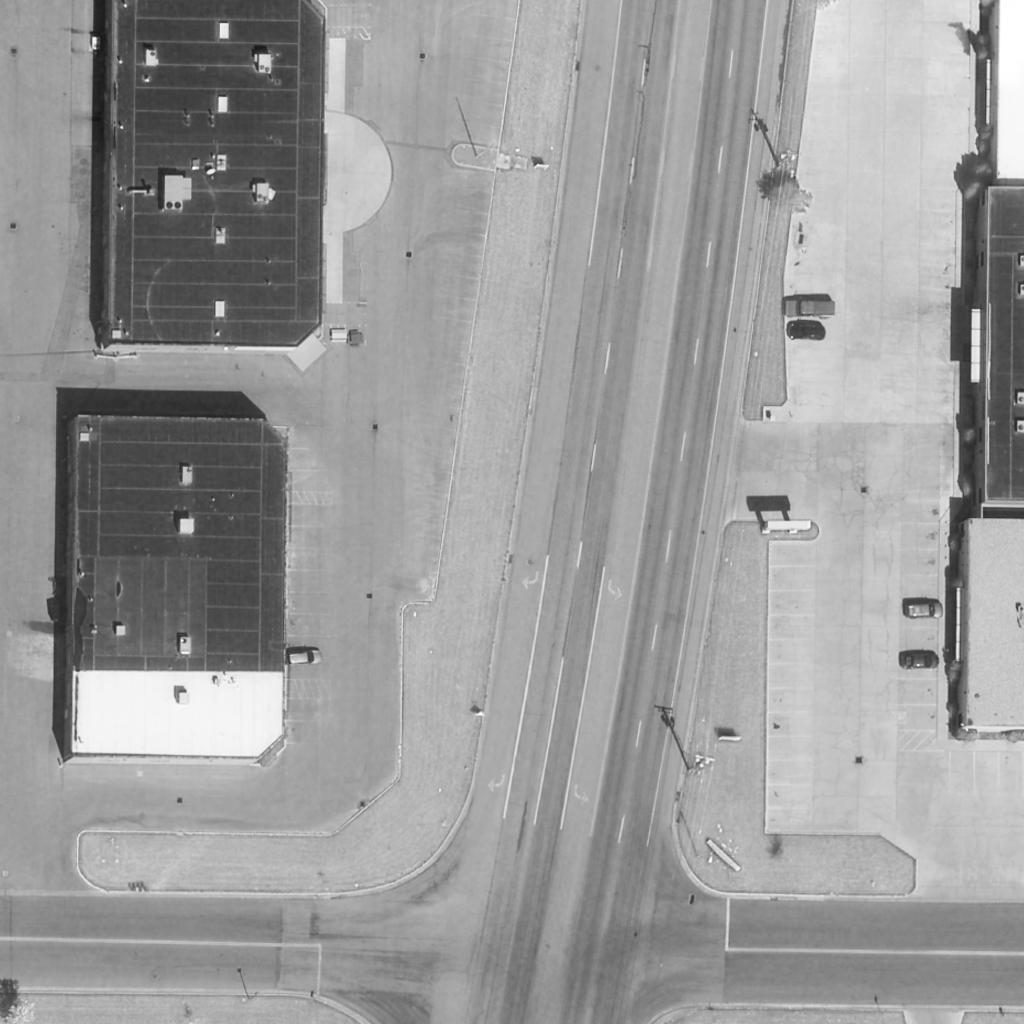vehicle: (785, 300, 837, 320), (896, 652, 942, 670), (787, 321, 827, 341), (287, 649, 323, 669), (904, 603, 944, 617)
